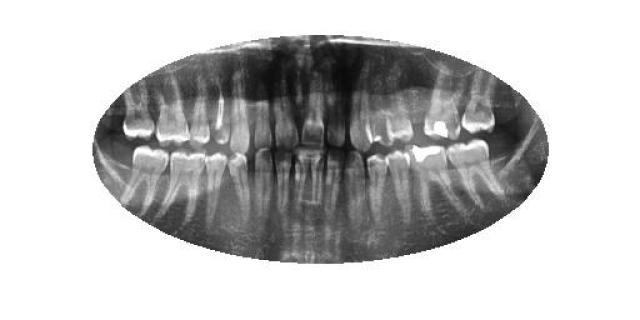Fillings: (405, 142, 464, 216), (422, 64, 467, 141)
